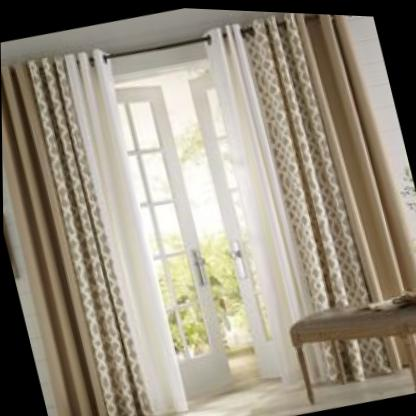Curtains: (203, 10, 416, 382), (1, 48, 188, 416)
